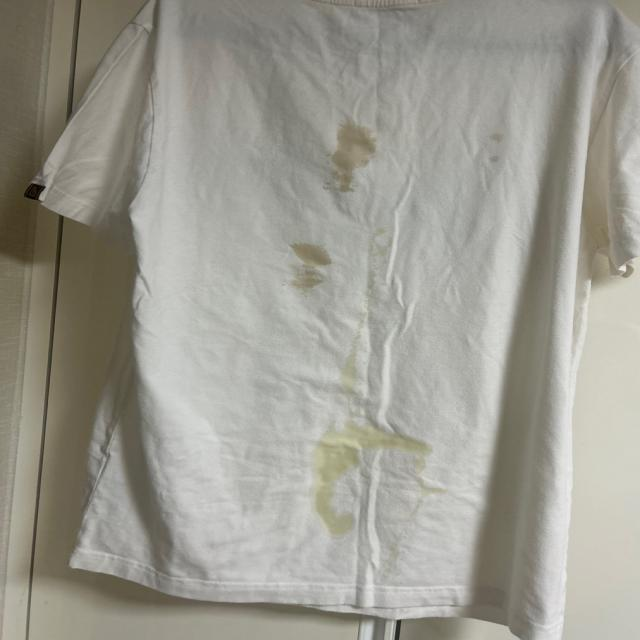stain: (303, 426, 434, 478), (300, 471, 384, 534), (317, 117, 381, 195), (325, 310, 366, 382), (282, 241, 334, 291), (473, 128, 509, 164)
